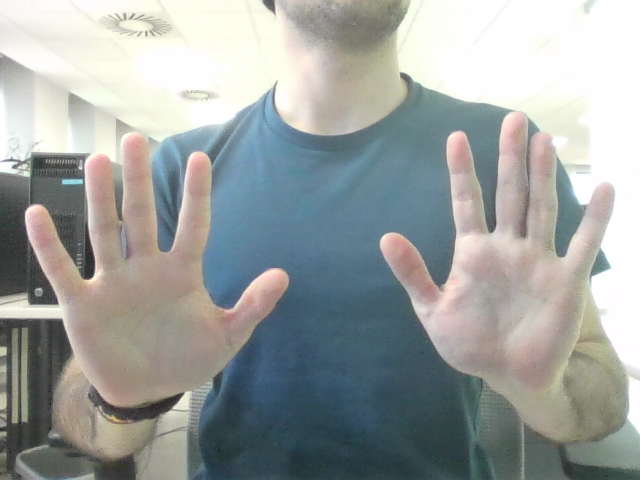Manos Arriba: (65, 138, 577, 356)
